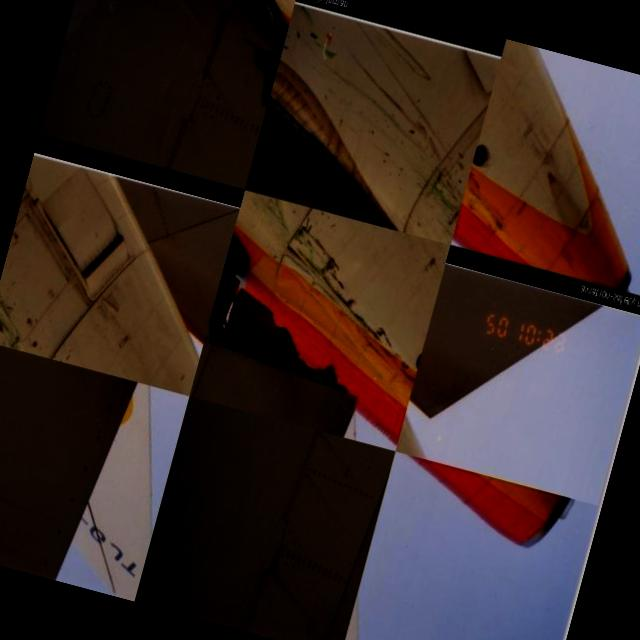crack: (228, 28, 284, 107)
